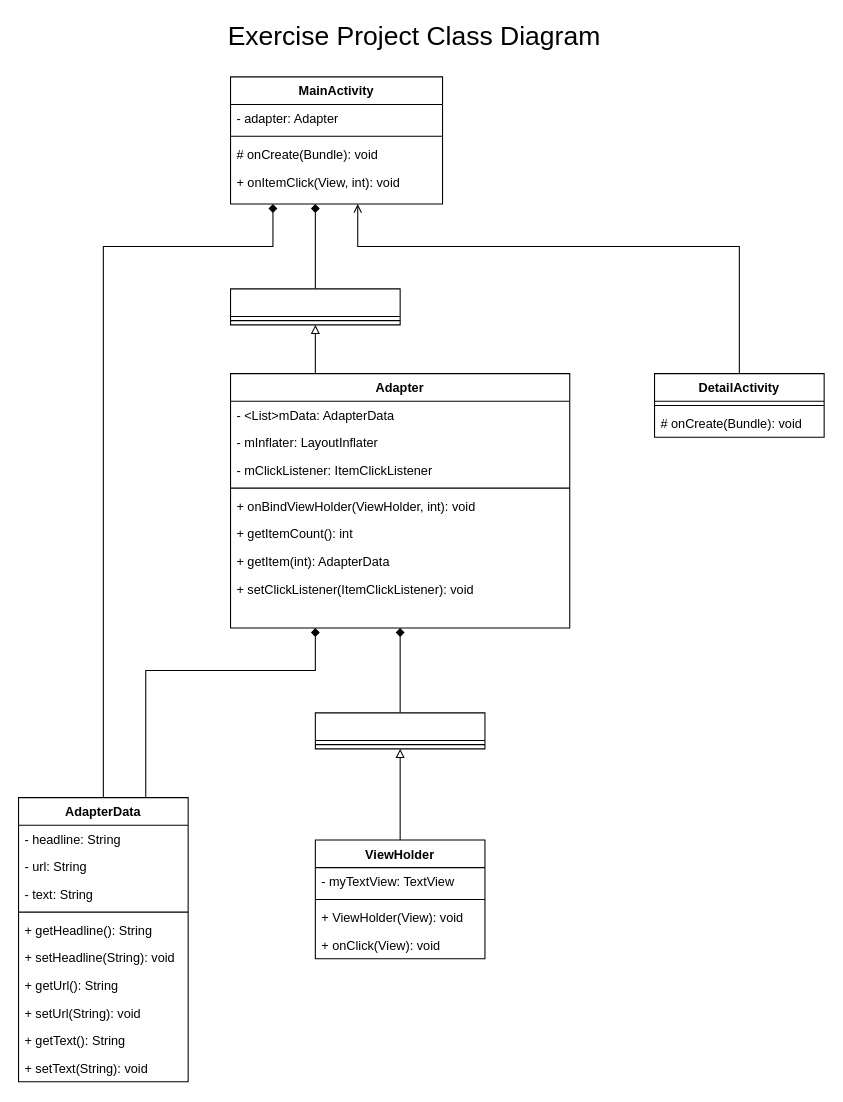
Some shapes in this 843 by 1102 pixel diagram are drawn without their labels. The shapes that lost their labels are listed below. From the top down, each one's centre as x and y in pixels, then its label:
[314,306]: RecyclerView.Adapter
[399,730]: RecyclerView.ViewHolder
